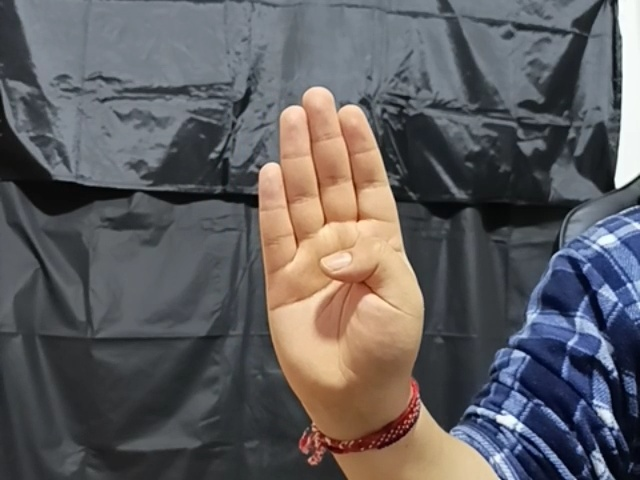B: (248, 85, 436, 400)
